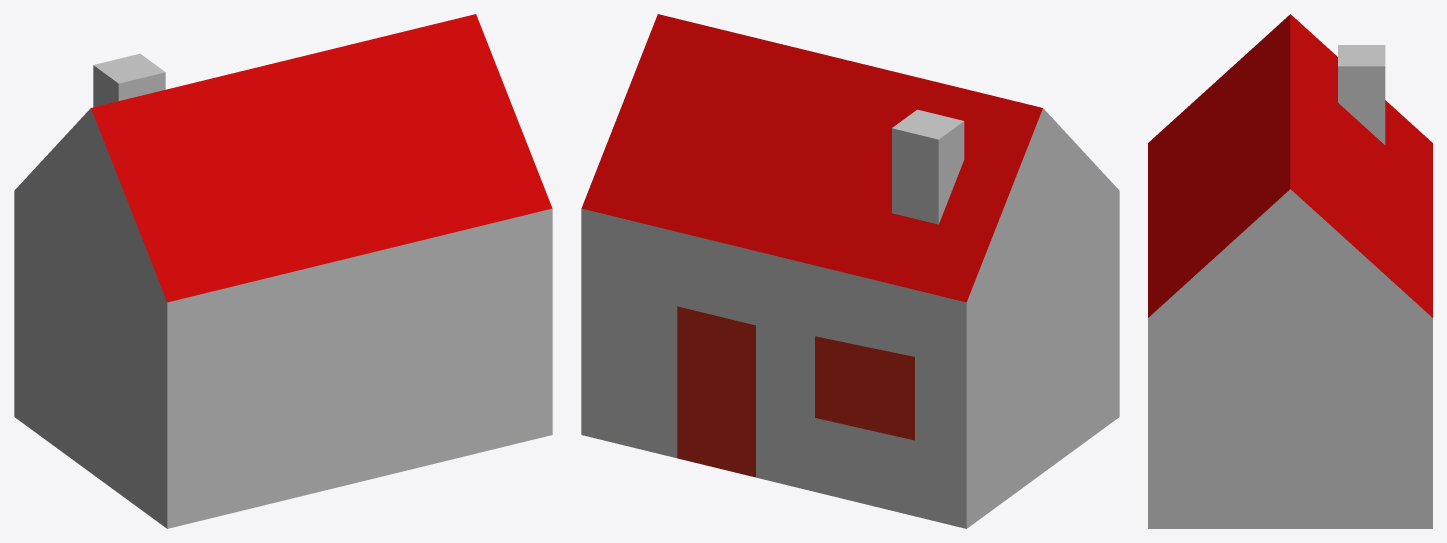
File: house4.obj
The picture shows the model from 3 angles, left to right: view 1: azimuth 30°, elevation 25°; view 2: azimuth 150°, elevation 25°; view 3: azimuth 270°, elevation 25°; orthographic projection. The views are drawn at different scales.
Parts seen in each view (by area): view 1: Cube.003; view 2: Cube.003; view 3: Cube.003.
Part boxes in pixels (x1=…): Cube.003: x1=14, y1=14, x2=552, y2=528; Cube.003: x1=581, y1=14, x2=1119, y2=528; Cube.003: x1=1148, y1=14, x2=1432, y2=528.
Size of the model in its own units: 1.96 by 1.77 by 1.34.
